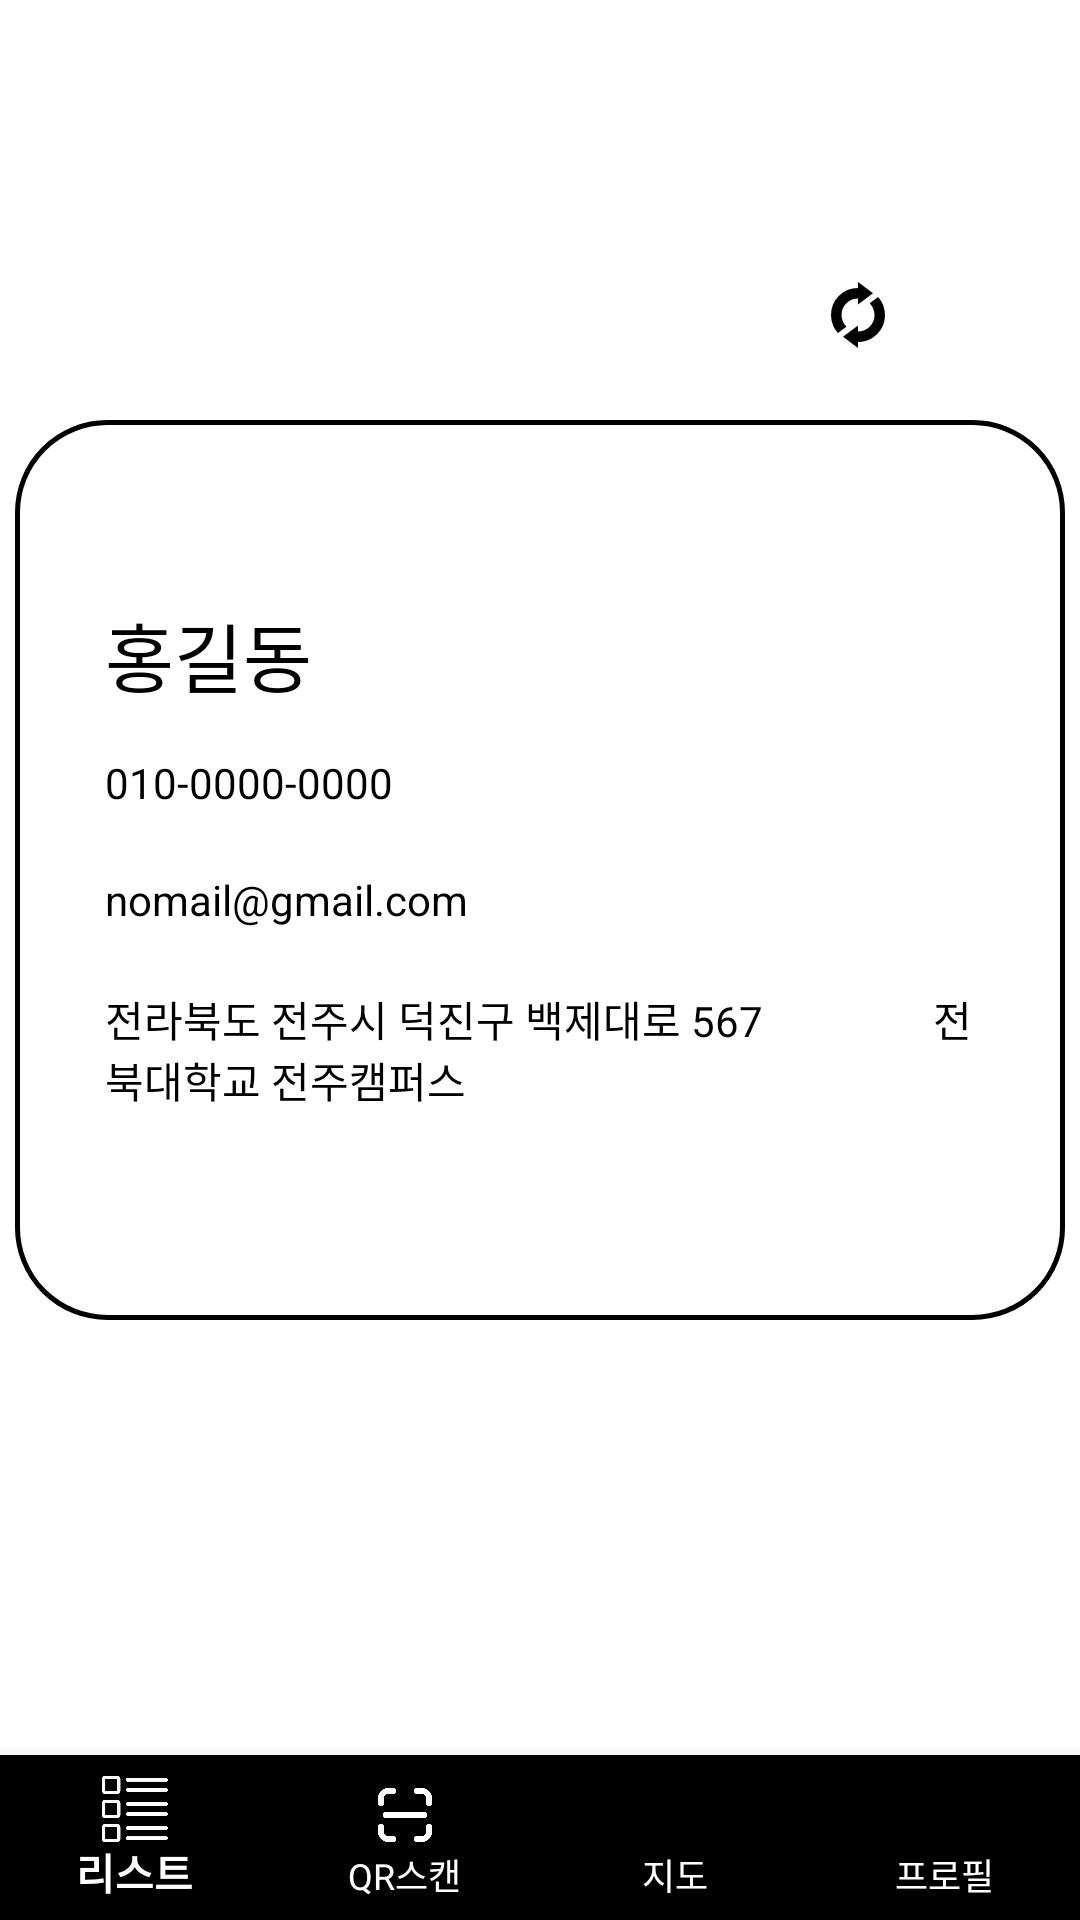

Screen size 1080px x 1920px. Icon name, then its center in pixels as (x,y):
명함 뒤로 돌려주는 버튼: (858,315)
